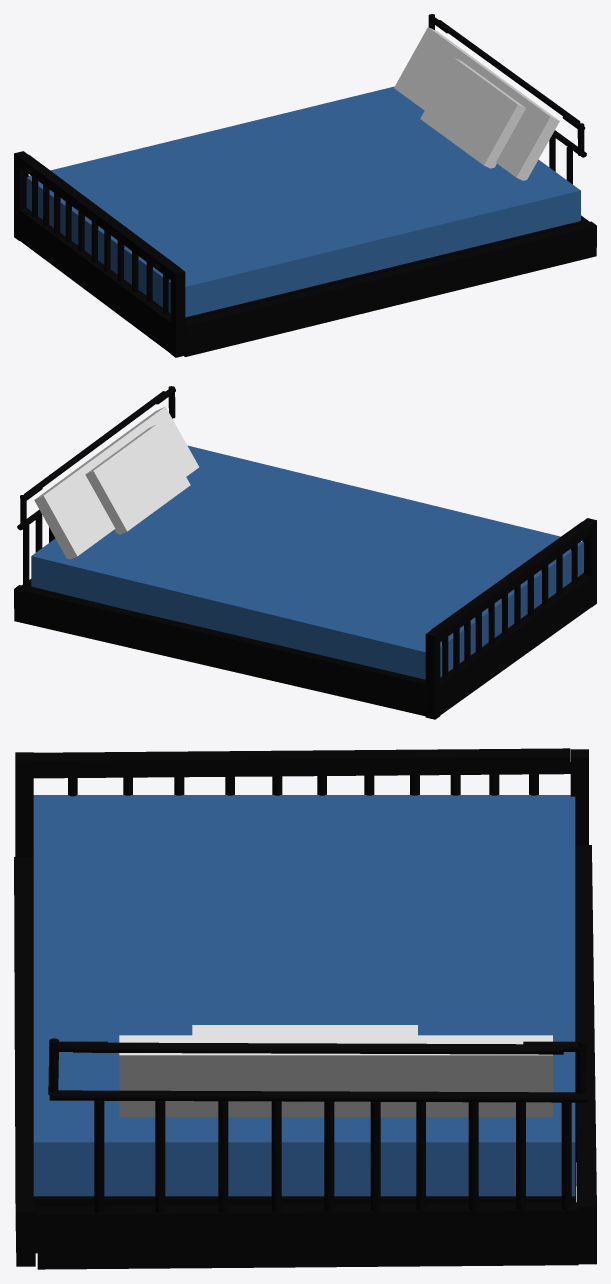
Rendered from ichago bed.fbx.
The picture shows the model from 3 angles, top to bottom: view 1: azimuth 30°, elevation 25°; view 2: azimuth 150°, elevation 25°; view 3: azimuth 270°, elevation 25°; orthographic projection. The views are drawn at different scales.
Parts seen in each view (by area): view 1: Cube.008, Cube.004, Cube.011, Cube.006, Cube.009, Cube.010, Cube.002, Cube.007, Cube.001, Cylinder.023, Cube; view 2: Cube.008, Cube.005, Cube.011, Cube.006, Cube.009, Cube.002, Cube.010, Cube, Cylinder.023, Cube.001; view 3: Cube.008, Cube.003, Cube.002, Cube.009, Cube.010, Cube.004, Cube.005, Cylinder.022, Cylinder.023, Cube.007, Cube.011, Cube.001 (+11 smaller).
Part boxes in pixels (x1=…): Cube.008: x1=26, y1=86, x2=580, y2=317; Cube.004: x1=184, y1=221, x2=596, y2=356; Cube.011: x1=420, y1=58, x2=525, y2=168; Cube.006: x1=19, y1=208, x2=170, y2=353; Cube.009: x1=394, y1=27, x2=494, y2=110; Cube.010: x1=488, y1=71, x2=559, y2=180; Cube.002: x1=19, y1=154, x2=179, y2=279; Cube.007: x1=142, y1=221, x2=580, y2=320; Cube.001: x1=170, y1=268, x2=185, y2=357; Cylinder.023: x1=439, y1=20, x2=580, y2=122; Cube: x1=14, y1=151, x2=28, y2=240; Cube.008: x1=31, y1=445, x2=583, y2=679; Cube.005: x1=14, y1=585, x2=426, y2=716; Cube.011: x1=85, y1=424, x2=190, y2=534; Cube.006: x1=440, y1=575, x2=591, y2=715; Cube.009: x1=34, y1=449, x2=115, y2=559; Cube.002: x1=431, y1=522, x2=591, y2=641; Cube.010: x1=93, y1=406, x2=198, y2=476; Cube: x1=425, y1=630, x2=440, y2=719; Cylinder.023: x1=24, y1=391, x2=165, y2=494; Cube.001: x1=582, y1=518, x2=596, y2=606; Cube.008: x1=33, y1=795, x2=575, y2=1196; Cube.003: x1=37, y1=1202, x2=578, y2=1269; Cube.002: x1=33, y1=748, x2=570, y2=778; Cube.009: x1=327, y1=1035, x2=552, y2=1116; Cube.010: x1=119, y1=1035, x2=344, y2=1116; Cube.004: x1=14, y1=856, x2=35, y2=1266; Cube.005: x1=575, y1=845, x2=596, y2=1264; Cylinder.022: x1=49, y1=1090, x2=587, y2=1102; Cylinder.023: x1=73, y1=1042, x2=563, y2=1054; Cube.007: x1=34, y1=1062, x2=575, y2=1253; Cube.011: x1=192, y1=1025, x2=417, y2=1035; Cube.001: x1=15, y1=752, x2=33, y2=856.
Bounding box in the file's own units: 1064 × 306 × 721.
